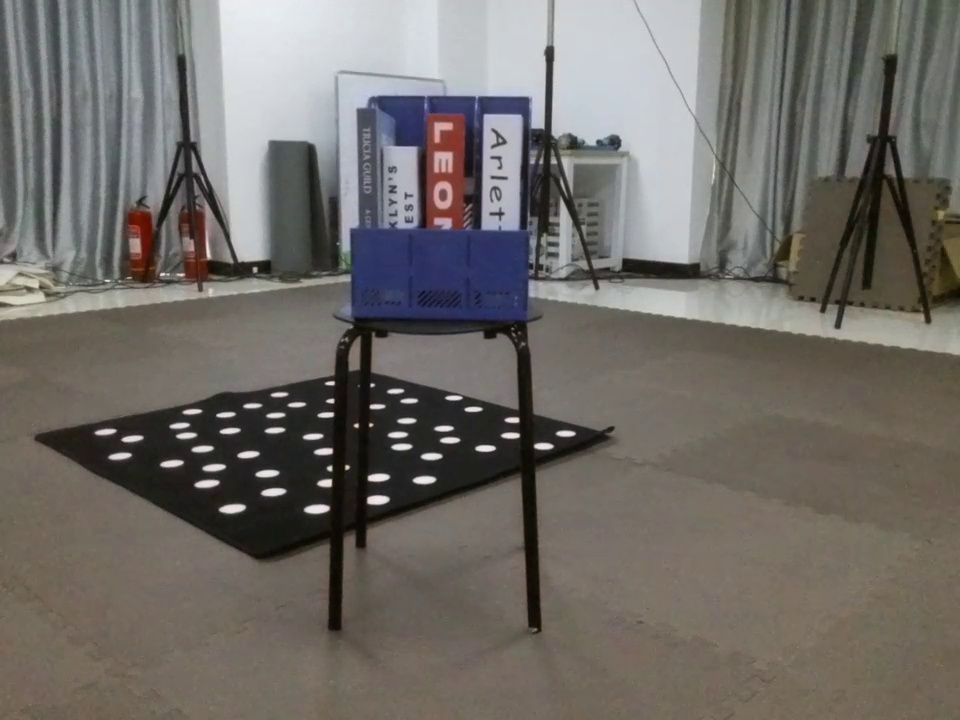files: (334, 86, 544, 329)
